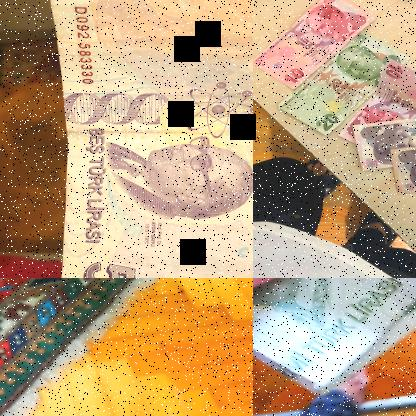5 TL: (42, 0, 252, 277)
